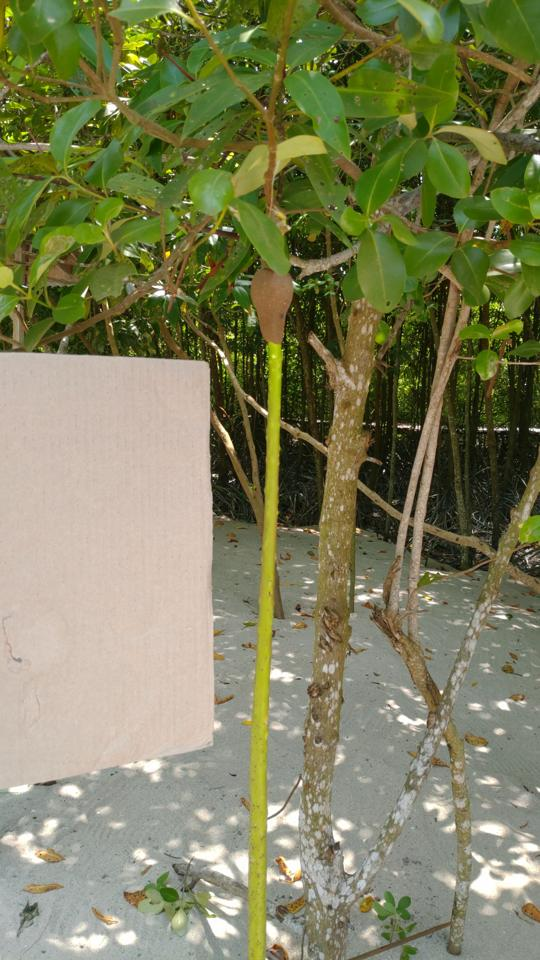mentah: (246, 247, 293, 956)
